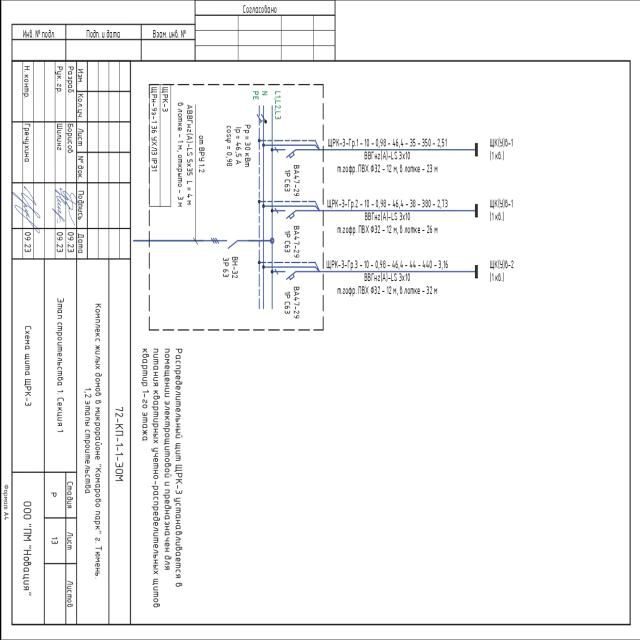-: (148, 86, 156, 174), (282, 224, 300, 259), (282, 164, 300, 199), (282, 286, 300, 320), (220, 254, 238, 280)
QF: (281, 146, 297, 160), (282, 268, 298, 282), (280, 207, 296, 220)
QS: (221, 237, 237, 250)
